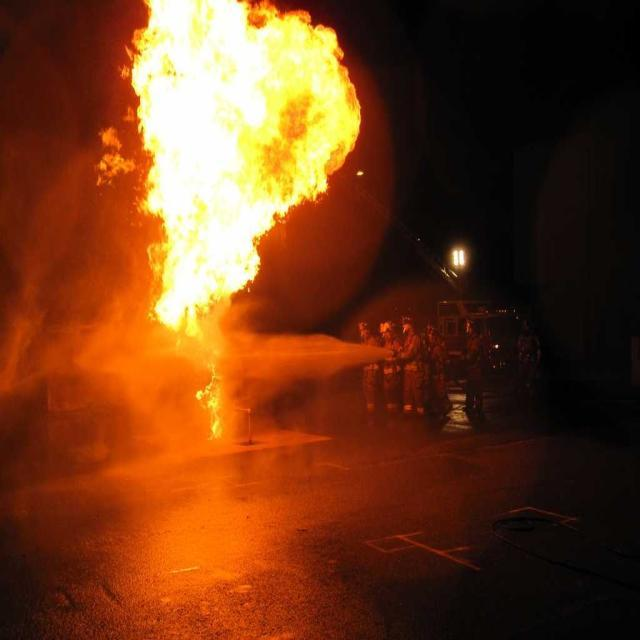Fire: (152, 5, 318, 194), (170, 196, 246, 298)
